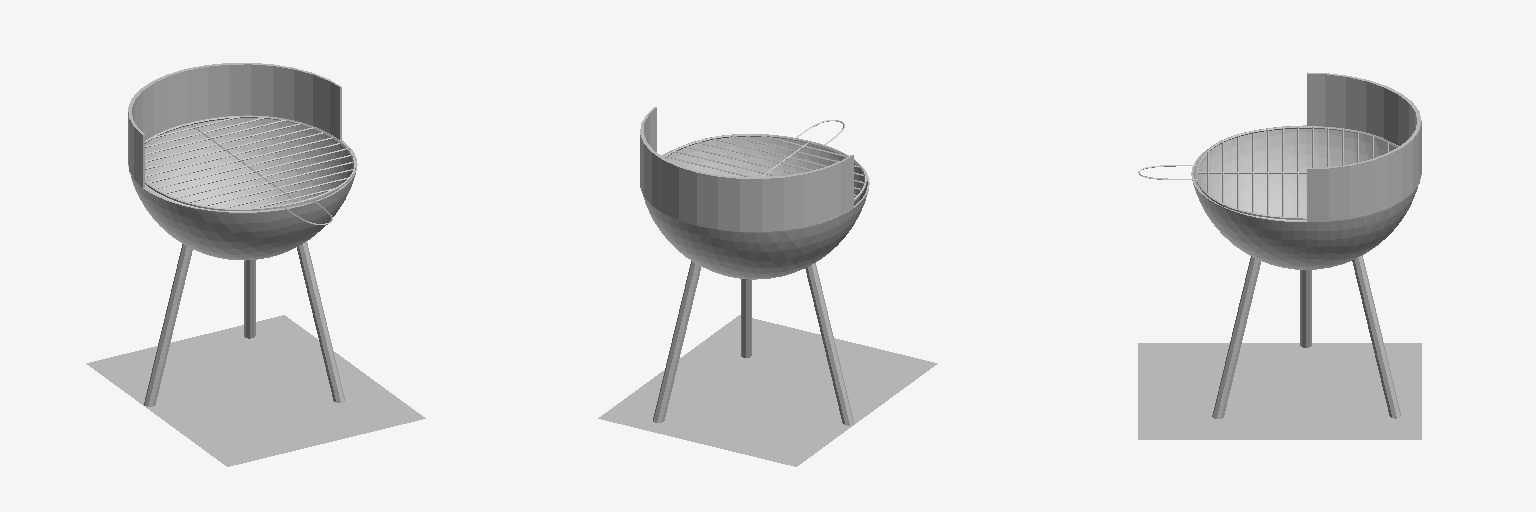
File: Parrilla 1.obj
3 views of the same model, side by side, from view 1: azimuth 30°, elevation 25°; view 2: azimuth 150°, elevation 25°; view 3: azimuth 270°, elevation 25° (orthographic).
Visible parts, largest first — view 1: ground_1, Cuve_4, Contour_2, Grille_5, Grille_1_3; view 2: ground_1, Contour_2, Cuve_4, Grille_5, Grille_1_3; view 3: ground_1, Cuve_4, Contour_2, Grille_5, Grille_1_3.
Boxes of the visible parts, x1=… form: ground_1: x1=86, y1=315, x2=425, y2=466; Cuve_4: x1=128, y1=118, x2=357, y2=260; Contour_2: x1=128, y1=63, x2=341, y2=187; Grille_5: x1=144, y1=115, x2=355, y2=406; Grille_1_3: x1=145, y1=117, x2=352, y2=338; ground_1: x1=598, y1=315, x2=937, y2=466; Contour_2: x1=640, y1=107, x2=853, y2=231; Cuve_4: x1=642, y1=136, x2=869, y2=279; Grille_5: x1=663, y1=120, x2=866, y2=425; Grille_1_3: x1=653, y1=138, x2=863, y2=422; ground_1: x1=1138, y1=343, x2=1421, y2=439; Cuve_4: x1=1191, y1=125, x2=1417, y2=269; Contour_2: x1=1307, y1=72, x2=1421, y2=222; Grille_5: x1=1138, y1=126, x2=1398, y2=418; Grille_1_3: x1=1237, y1=127, x2=1400, y2=418.
Bounding box in the file's own units: 39.2 × 50.9 × 48.4.